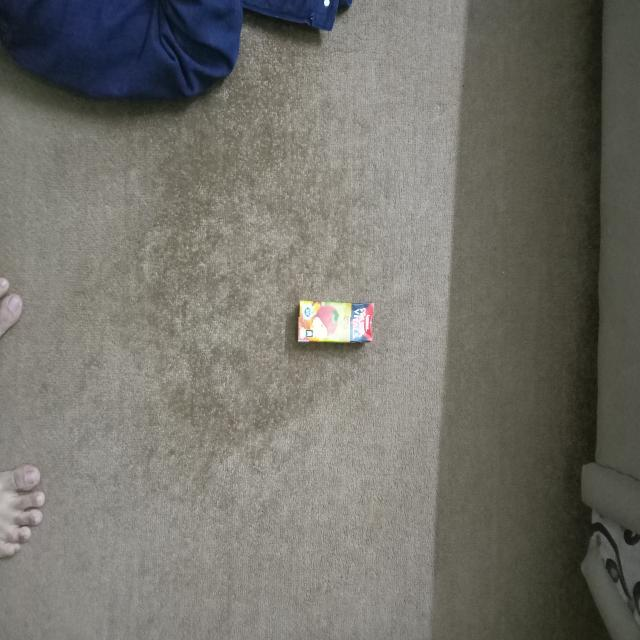Plastic: (296, 294, 384, 354)
